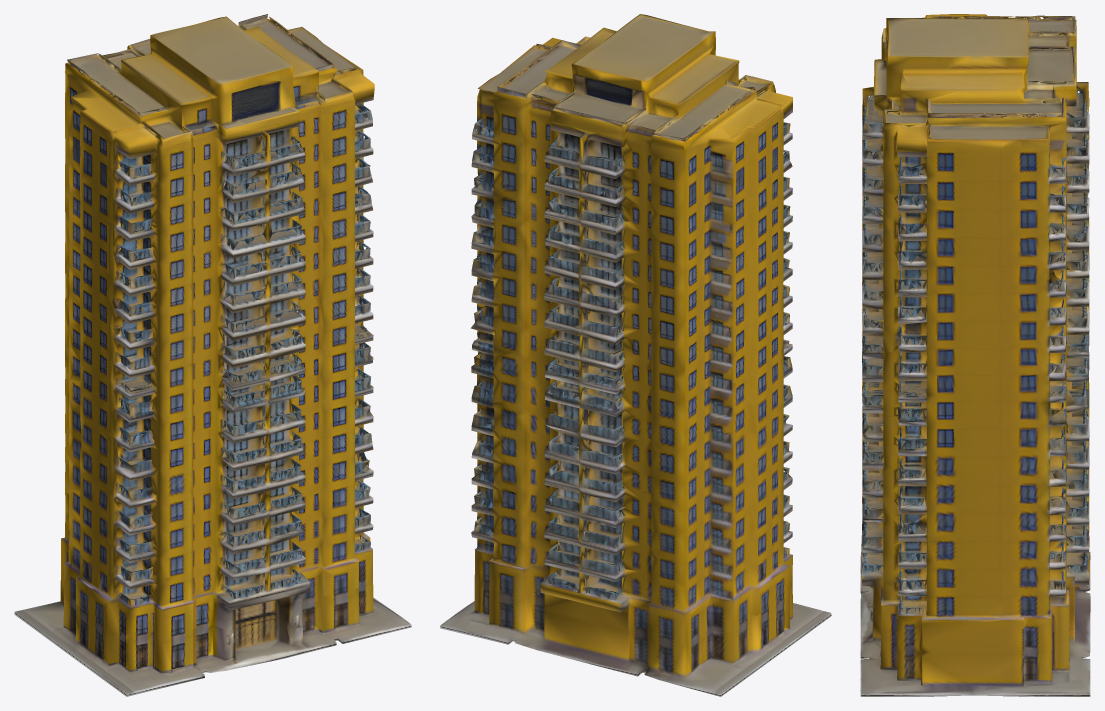
The model's file is 05-apartment-building-50.glb.
3 renders of one model, left to right at view 1: azimuth 30°, elevation 25°; view 2: azimuth 150°, elevation 25°; view 3: azimuth 270°, elevation 25°, orthographic. The views are drawn at different scales.
Visible parts, largest first — view 1: tripo_node_41056b0f-31a7-480b-ac04-ae1fad23d7e9; view 2: tripo_node_41056b0f-31a7-480b-ac04-ae1fad23d7e9; view 3: tripo_node_41056b0f-31a7-480b-ac04-ae1fad23d7e9.
Boxes of the visible parts, left/top/right/bottom form: tripo_node_41056b0f-31a7-480b-ac04-ae1fad23d7e9: left=14, top=14, right=411, bottom=696; tripo_node_41056b0f-31a7-480b-ac04-ae1fad23d7e9: left=440, top=14, right=831, bottom=696; tripo_node_41056b0f-31a7-480b-ac04-ae1fad23d7e9: left=860, top=14, right=1090, bottom=696.
Bounding box in the file's own units: 0.5074 × 0.982 × 0.3473.
1 material, 1 textured.
